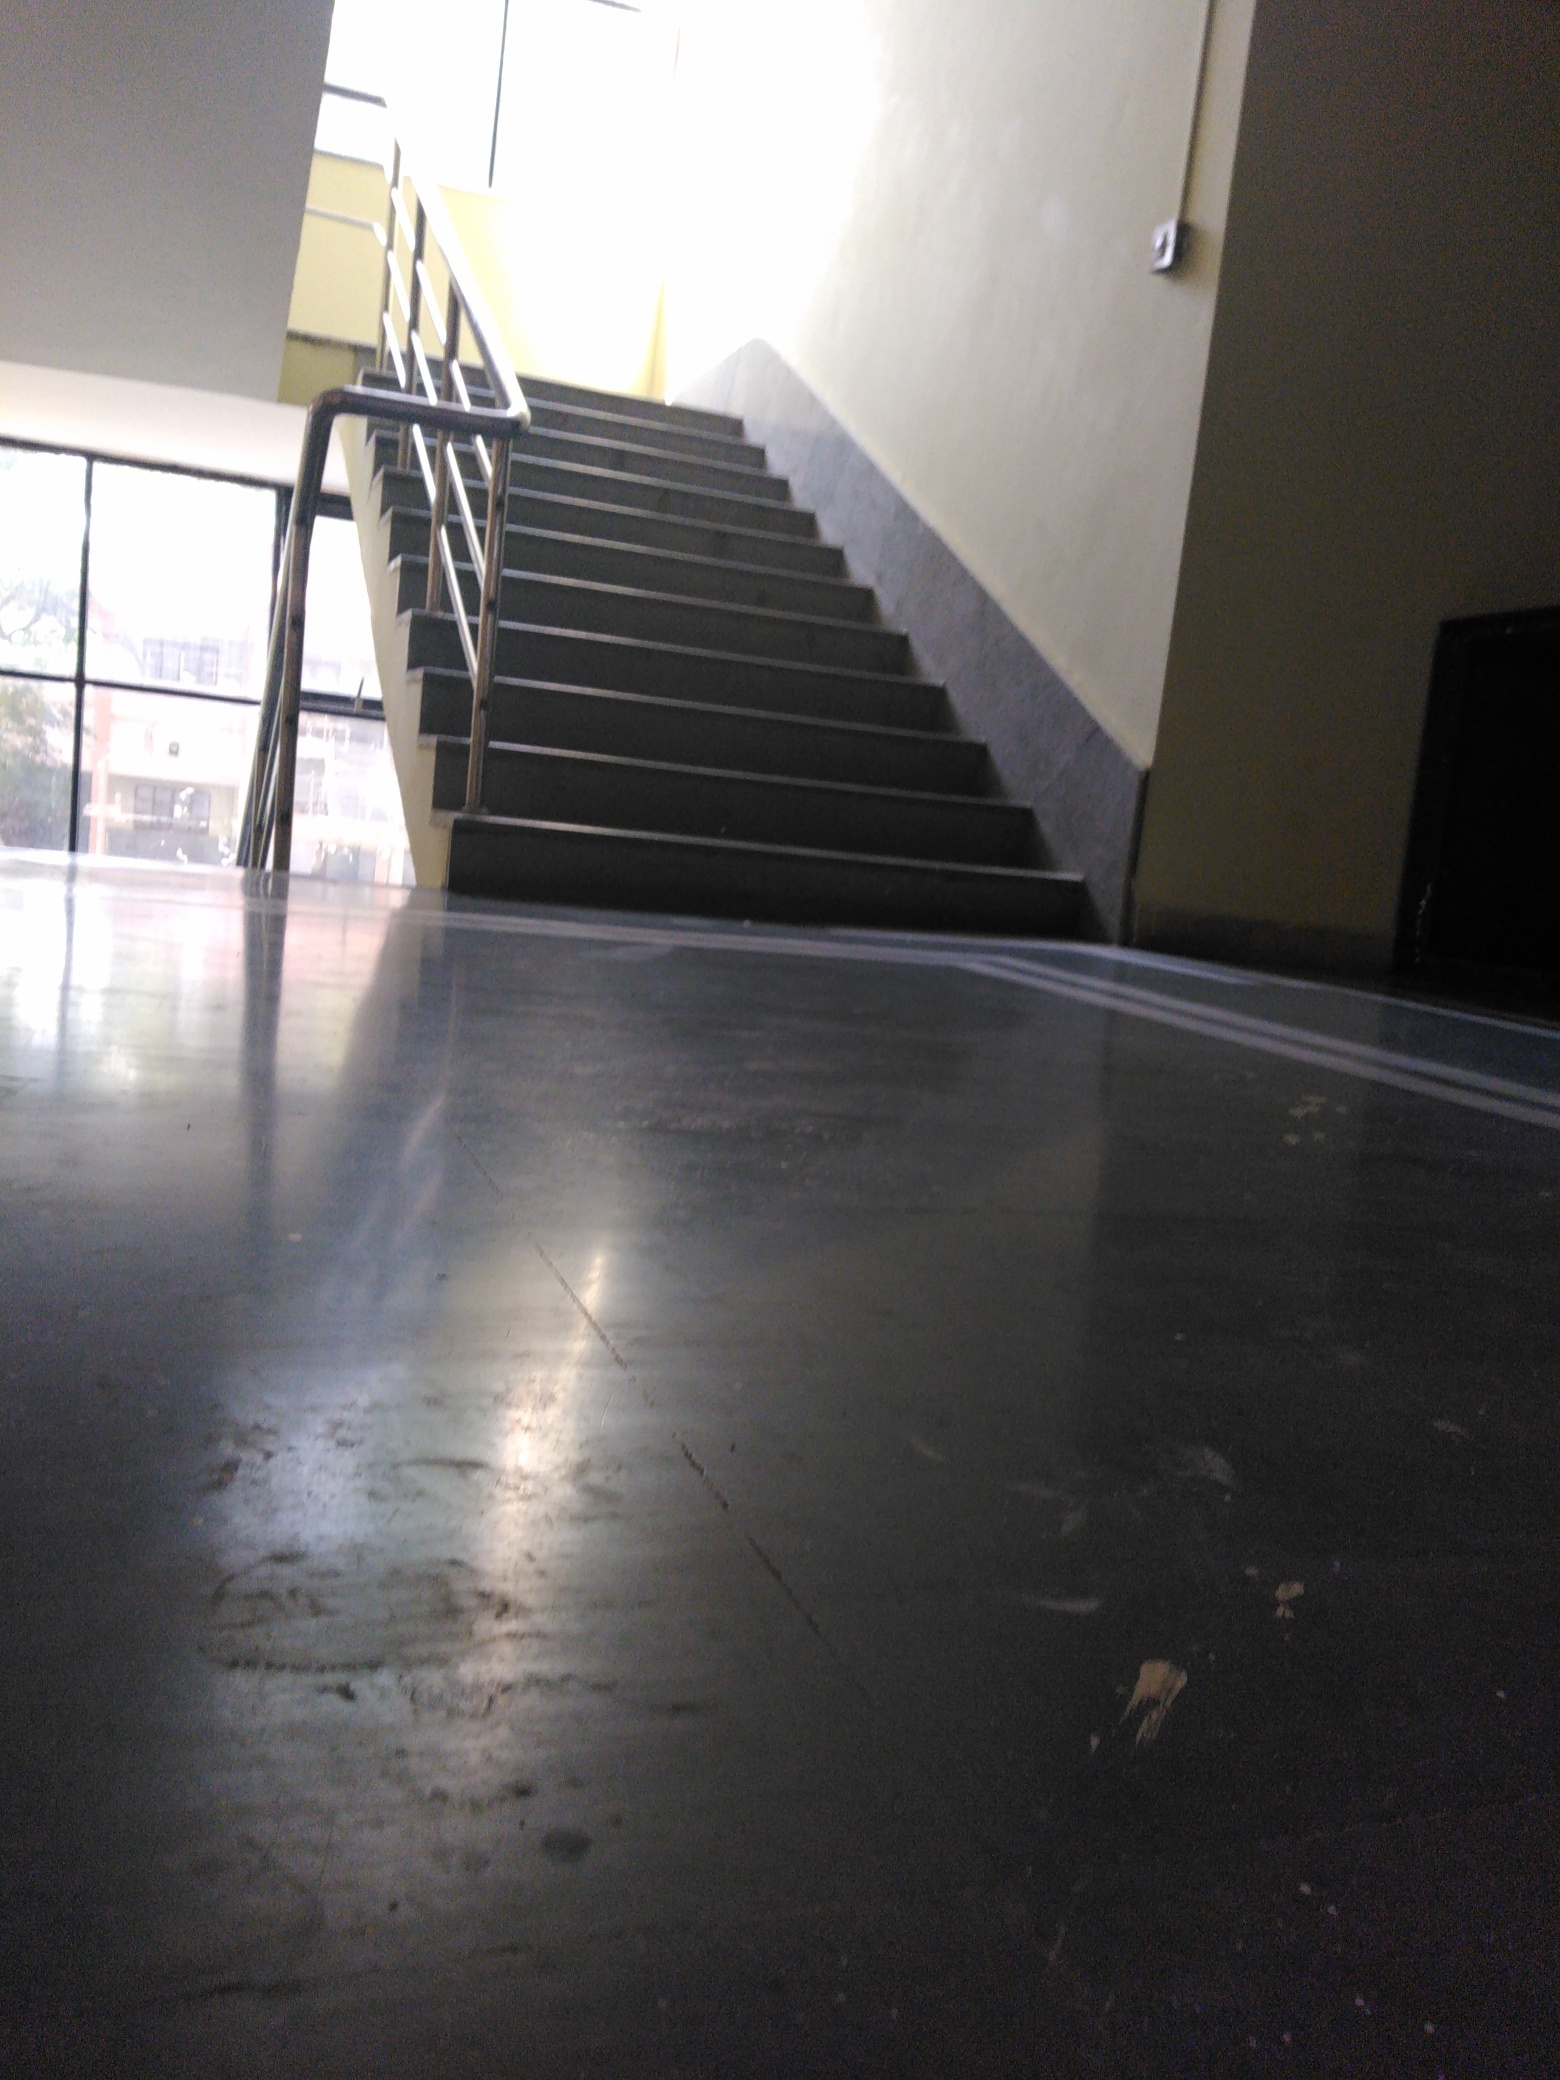stairs_up: (374, 339, 1086, 911)
